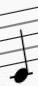LC: (7, 8, 35, 83)
